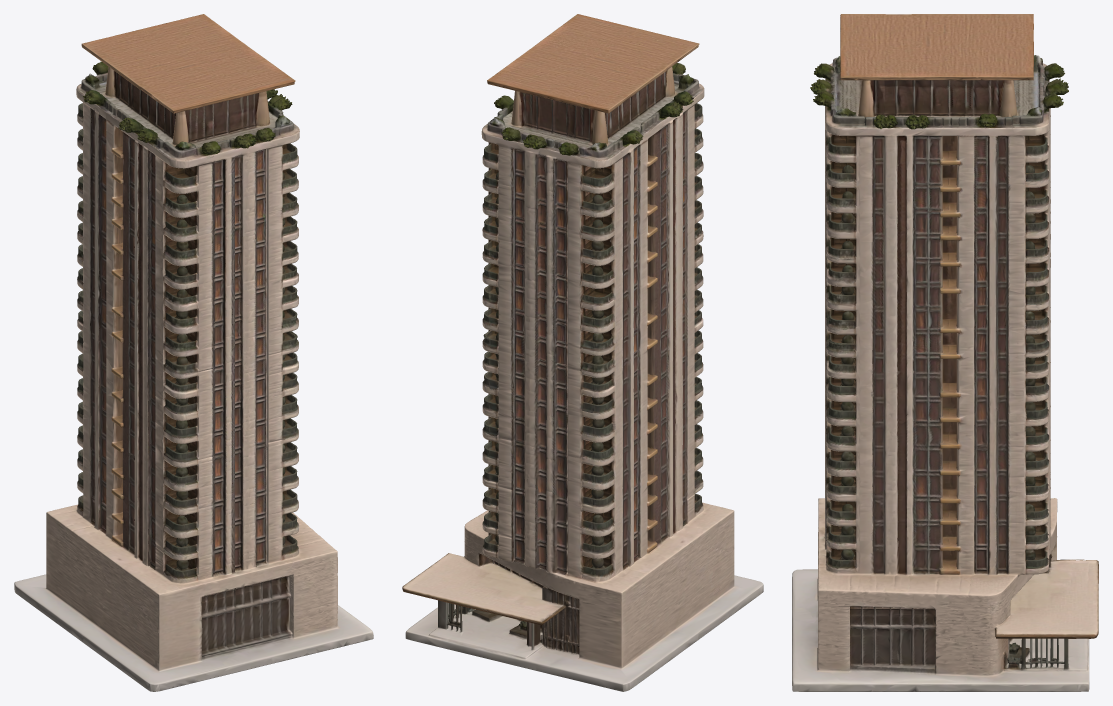
Rendered from tower-web.glb.
3 views of the same model, side by side, from view 1: azimuth 30°, elevation 25°; view 2: azimuth 150°, elevation 25°; view 3: azimuth 270°, elevation 25° (orthographic). The views are drawn at different scales.
Parts seen in each view (by area): view 1: tripo_node_14f64fe4-8c56-4ac3-a78e-b156777a749a; view 2: tripo_node_14f64fe4-8c56-4ac3-a78e-b156777a749a; view 3: tripo_node_14f64fe4-8c56-4ac3-a78e-b156777a749a.
Boxes of the visible parts, x1=… form: tripo_node_14f64fe4-8c56-4ac3-a78e-b156777a749a: x1=14, y1=14, x2=373, y2=691; tripo_node_14f64fe4-8c56-4ac3-a78e-b156777a749a: x1=402, y1=14, x2=763, y2=691; tripo_node_14f64fe4-8c56-4ac3-a78e-b156777a749a: x1=792, y1=14, x2=1098, y2=691.
Size of the model in its own units: 0.4121 by 0.9787 by 0.4641.
Materials: 1 (1 with a texture image).
